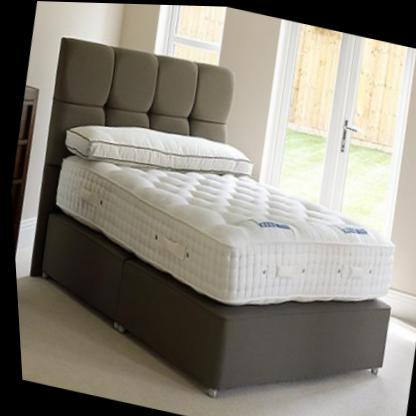Bed: (1, 30, 416, 416)
Window: (250, 18, 416, 228)
